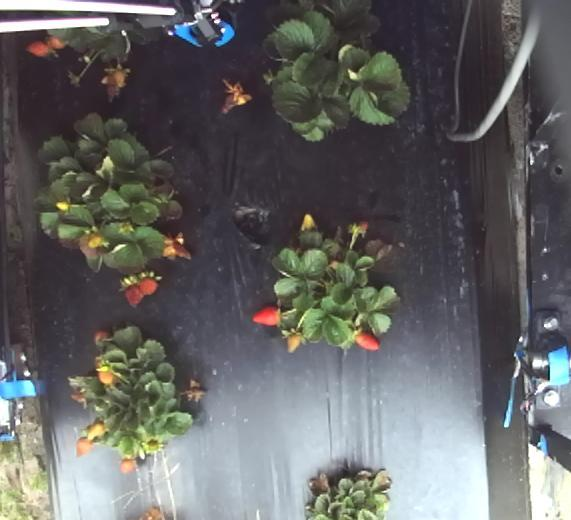mature: (251, 305, 280, 327), (353, 329, 380, 351), (140, 270, 160, 297), (123, 283, 143, 306), (92, 329, 115, 349), (26, 43, 51, 58), (47, 36, 70, 50)
